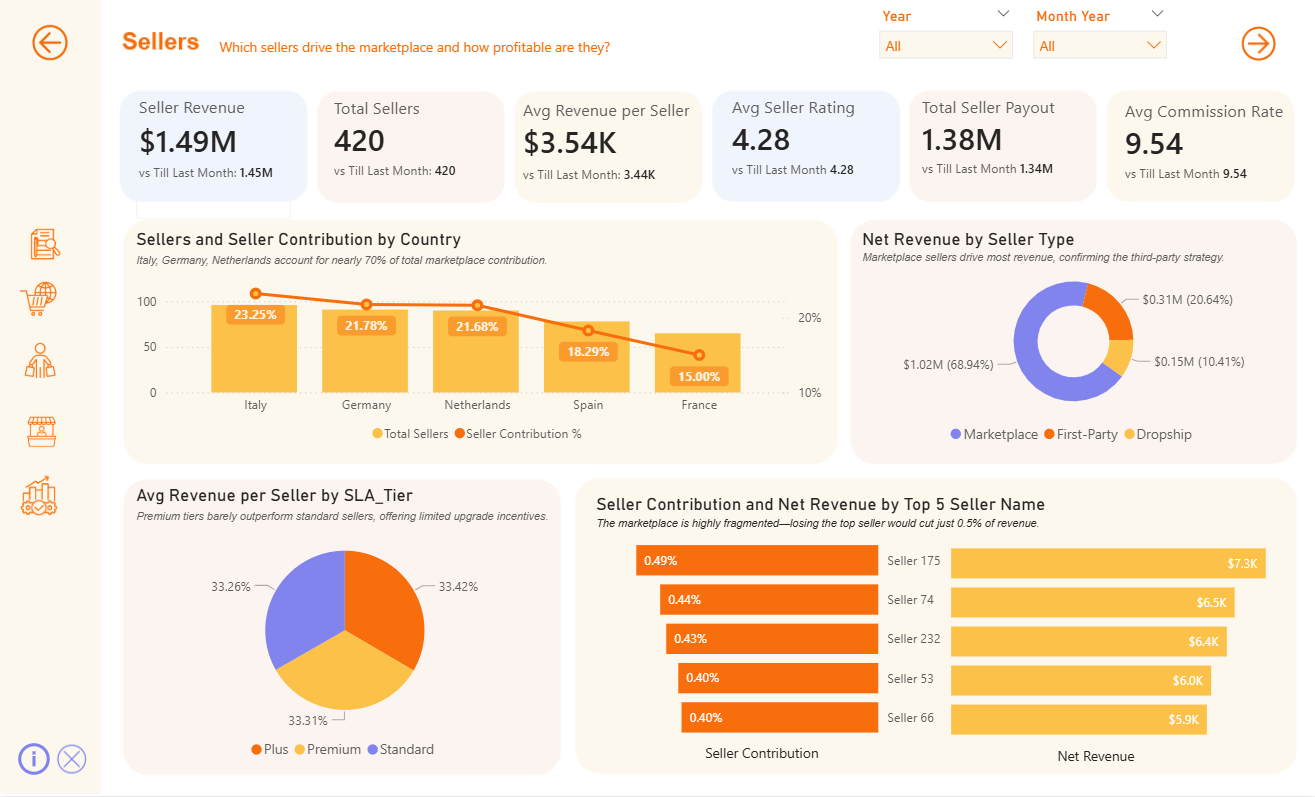

This screenshot's page, from the dashboard's own definition file:
{"tool":"powerbi","page":{"name":"Sellers","canvas":[1280,780],"ordinal":3},"visuals":[{"type":"lineClusteredColumnComboChart","title":"Sellers and Seller Contribution  by Country","fields":{"Category":["Sellers_raw.Country"],"Y":["_Measures.Total Sellers"],"Y2":["_Measures.Seller Contribution %"]},"box":[127,229,677,217],"z":0},{"type":"pieChart","fields":{"Y":["_Measures.Avg Revenue per Seller"],"Category":["Sellers_raw.SLA_Tier"]},"box":[127,478,416,276],"z":1000},{"type":"donutChart","title":"Net Revenue by Seller Type","fields":{"Category":["Sellers_raw.SellerType"],"Y":["Sum(Orders_2021_2024.NetRevenue)"]},"box":[833.6,228.6,421.2,217.9],"z":2000},{"type":"cardVisual","fields":{"Data":["_Measures.Total Sellers"]},"box":[325,98,218,122],"z":3000},{"type":"clusteredBarChart","fields":{"Y":["_Measures.Seller Contribution %"],"Category":["Sellers_raw.SellerName"]},"box":[560,508,365,232],"z":4000},{"type":"cardVisual","fields":{"Data":["_Measures.Seller Revenue"]},"box":[132,96.9,151.5,122.7],"z":5000},{"type":"textbox","box":[208,37,402,35],"z":6000},{"type":"cardVisual","fields":{"Data":["_Measures.Avg Revenue per Seller"]},"box":[508.7,102.1,185.8,121.6],"z":7000},{"type":"cardVisual","fields":{"Data":["_Measures.Avg Seller Rating"]},"box":[712,97,184,122],"z":8000},{"type":"cardVisual","fields":{"Data":["_Measures.Total Seller Payout"]},"box":[896.8,101.2,197.4,112.8],"z":9000},{"type":"cardVisual","fields":{"Data":["_Measures.Avg Commission Rate"]},"box":[1094.2,101.2,184.8,122.6],"z":10000},{"type":"clusteredBarChart","fields":{"Category":["Sellers_raw.SellerName"],"Y":["Sum(Orders_2021_2024.NetRevenue)"]},"box":[920.1,526.2,347.2,200.4],"z":11000},{"type":"image","box":[3.1,219.6,79,49],"z":12000},{"type":"image","box":[3.1,267.6,70,58],"z":13000},{"type":"image","box":[3.1,326.6,70,58],"z":14000},{"type":"image","box":[1186.6,12.4,75.3,70.1],"z":15000},{"type":"image","box":[3.1,397.6,79,58],"z":16000},{"type":"image","box":[4.1,8.2,78.4,78.4],"z":17000},{"type":"image","box":[3.1,463.6,70,51],"z":18000},{"type":"textbox","box":[574.8,480.5,641,84.6],"z":20000},{"type":"actionButton","box":[12.6,723.6,44.7,40.9],"z":21000},{"type":"image","box":[37,723.6,63.2,40.9],"z":22000},{"type":"slicer","fields":{"Values":["Calendar.Year"]},"box":[845,8,150,55],"z":23000},{"type":"slicer","fields":{"Values":["Calendar.Month Year"]},"box":[995,8,150,55],"z":24000},{"type":"textbox","box":[681,724,164,27],"z":25000},{"type":"textbox","box":[1023,727,94,29],"z":26000}]}

Visuals, with their boxes in screenshot pixels (x1, y1, x2, y2), scaled from the page's 1280x780 canvas onto the 1315x797 screenshot:
"Sellers and Seller Contribution  by Country" lineClusteredColumnComboChart: [left=130, top=234, right=826, bottom=456]
pieChart - _Measures.Avg Revenue per Seller x Sellers_raw.SLA_Tier: [left=130, top=488, right=558, bottom=770]
"Net Revenue by Seller Type" donutChart: [left=856, top=234, right=1289, bottom=456]
cardVisual - _Measures.Total Sellers: [left=334, top=100, right=558, bottom=225]
clusteredBarChart - _Measures.Seller Contribution % x Sellers_raw.SellerName: [left=575, top=519, right=950, bottom=756]
cardVisual - _Measures.Seller Revenue: [left=136, top=99, right=291, bottom=224]
textbox: [left=214, top=38, right=627, bottom=74]
cardVisual - _Measures.Avg Revenue per Seller: [left=523, top=104, right=713, bottom=229]
cardVisual - _Measures.Avg Seller Rating: [left=731, top=99, right=920, bottom=224]
cardVisual - _Measures.Total Seller Payout: [left=921, top=103, right=1124, bottom=219]
cardVisual - _Measures.Avg Commission Rate: [left=1124, top=103, right=1314, bottom=229]
clusteredBarChart - Sellers_raw.SellerName x Sum(Orders_2021_2024.NetRevenue): [left=945, top=538, right=1302, bottom=742]
image: [left=3, top=224, right=84, bottom=274]
image: [left=3, top=273, right=75, bottom=333]
image: [left=3, top=334, right=75, bottom=393]
image: [left=1219, top=13, right=1296, bottom=84]
image: [left=3, top=406, right=84, bottom=466]
image: [left=4, top=8, right=85, bottom=88]
image: [left=3, top=474, right=75, bottom=526]
textbox: [left=591, top=491, right=1249, bottom=577]
actionButton: [left=13, top=739, right=59, bottom=781]
image: [left=38, top=739, right=103, bottom=781]
slicer - Calendar.Year: [left=868, top=8, right=1022, bottom=64]
slicer - Calendar.Month Year: [left=1022, top=8, right=1176, bottom=64]
textbox: [left=700, top=740, right=868, bottom=767]
textbox: [left=1051, top=743, right=1148, bottom=772]
